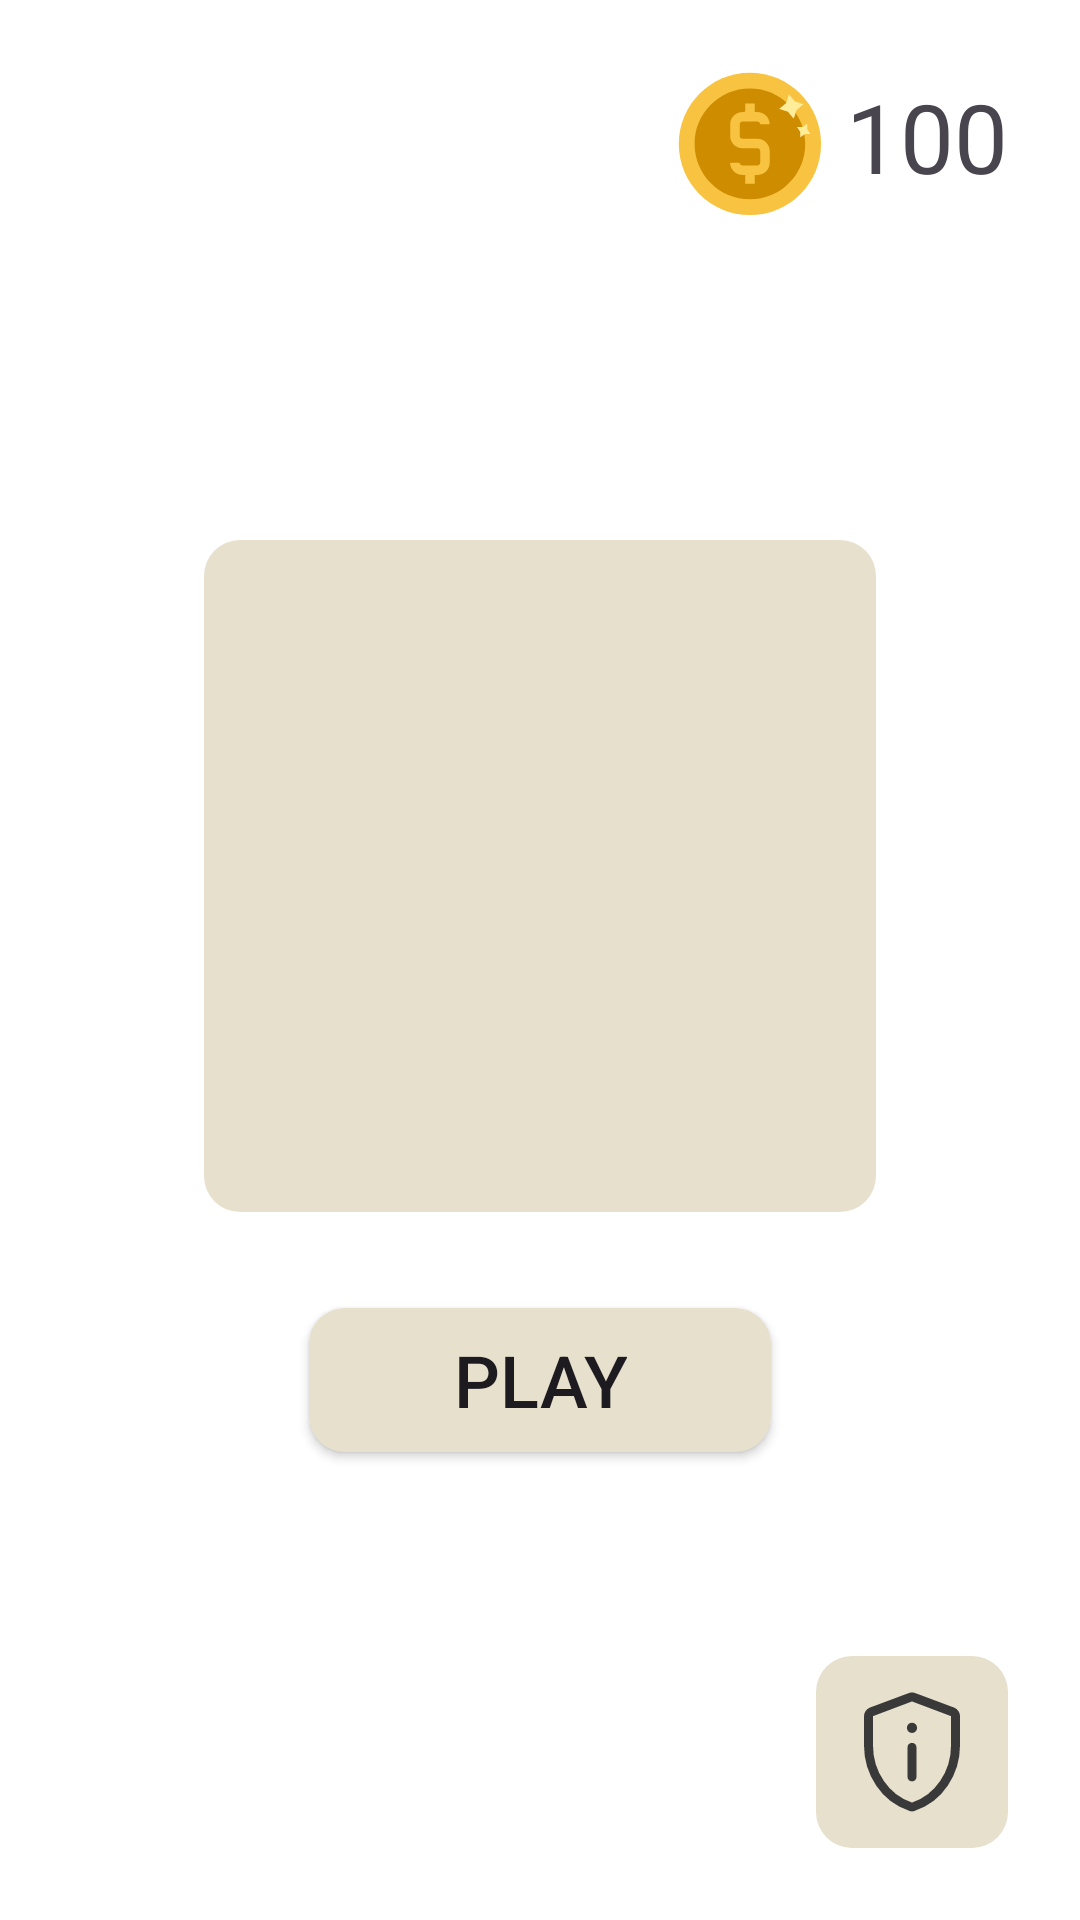

Icons on this 1080×1920 Android screen, each with its box as (x1, y1, x2, y2):
privacy: (816, 1656, 1008, 1848)
